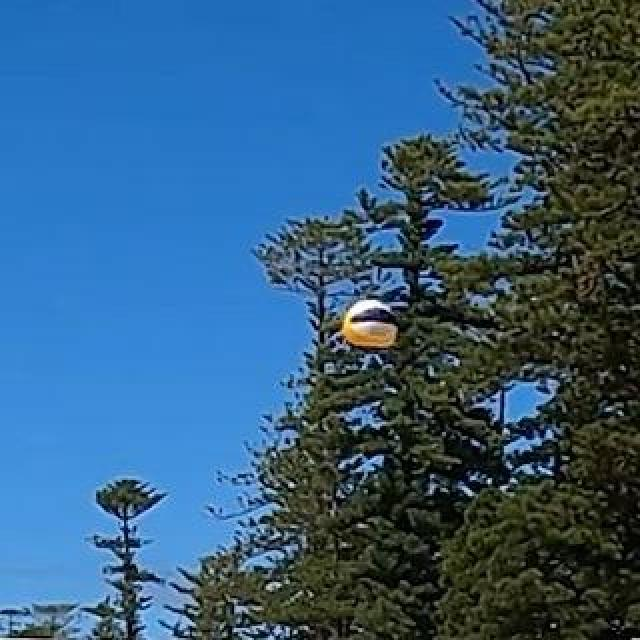volleyball: (342, 300, 396, 352)
